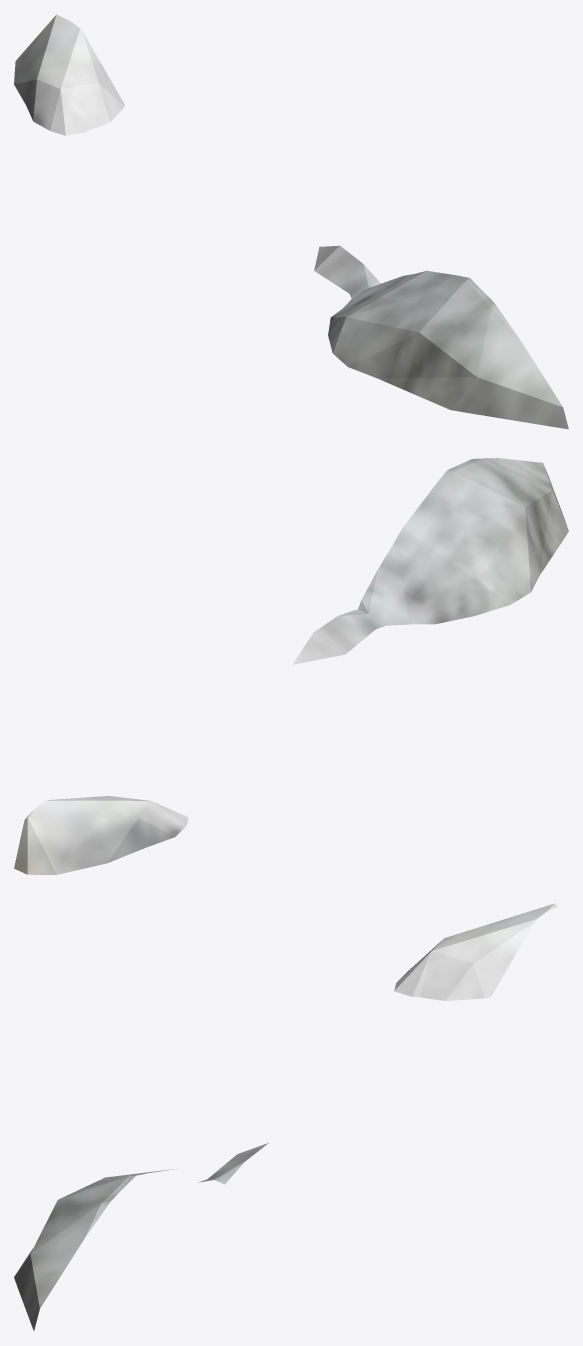
The picture shows the model from 3 angles, top to bottom: view 1: azimuth 30°, elevation 25°; view 2: azimuth 150°, elevation 25°; view 3: azimuth 330°, elevation 25°; orthographic projection. The views are drawn at different scales.
Bounding box in the file's own units: 0.167 × 0.1239 × 1.49.
Materials: 1 (1 with a texture image).
